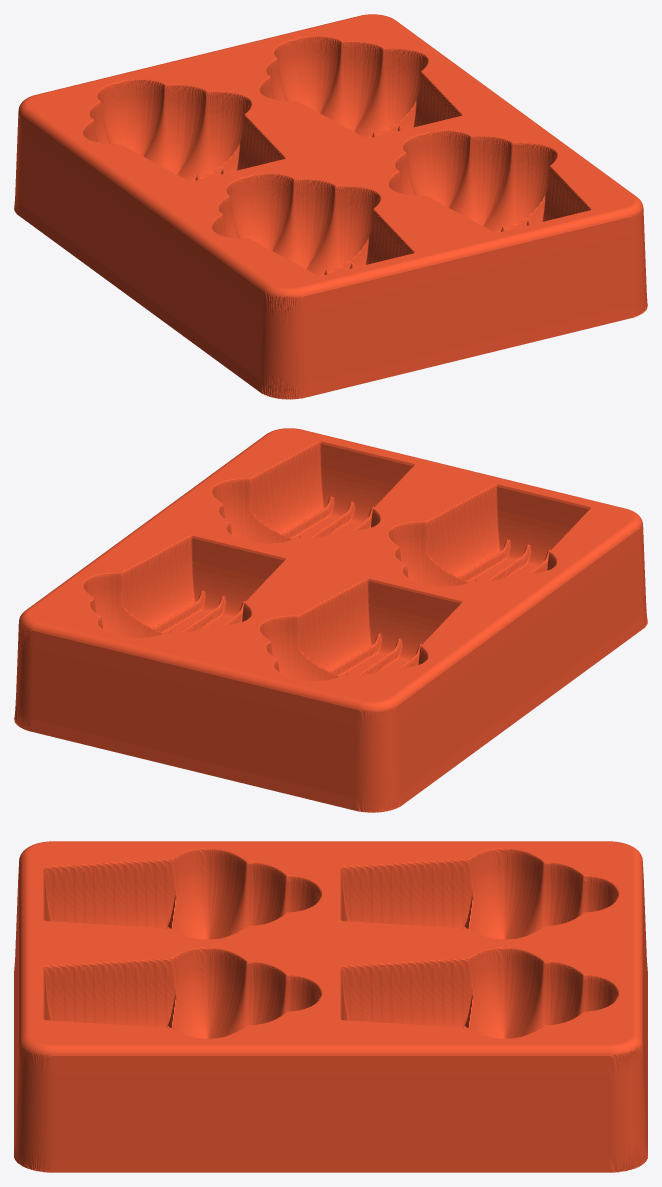
The model's file is mold.glb.
3 renders of one model, top to bottom at view 1: azimuth 30°, elevation 25°; view 2: azimuth 150°, elevation 25°; view 3: azimuth 270°, elevation 25°, orthographic. The views are drawn at different scales.
Parts seen in each view (by area): view 1: geometry_0; view 2: geometry_0; view 3: geometry_0.
Boxes of the visible parts, x1,y1,x2,y2 form: geometry_0: [14, 14, 647, 399]; geometry_0: [14, 428, 647, 812]; geometry_0: [14, 841, 647, 1172].
Bounding box in the file's own units: 0.1179 × 0.031 × 0.1466.
